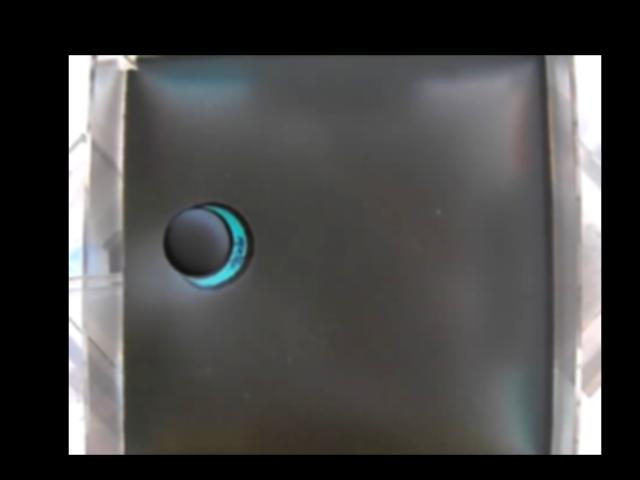Cup: (161, 198, 251, 291)
